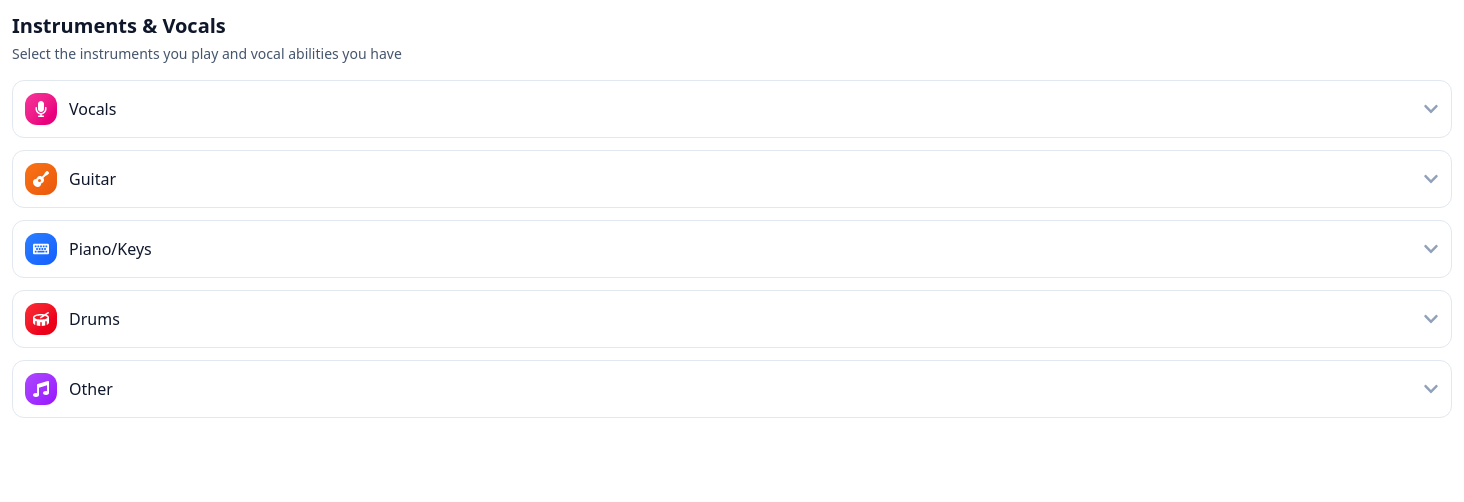
InstrumentSelector › Custom Instrument Input › should show custom input when Other category is expanded
What coordinates should you click on to do the following:
click the button with test id "category-other"
I would click on:
 (41, 389)
Its box is [13,361,1451,417].
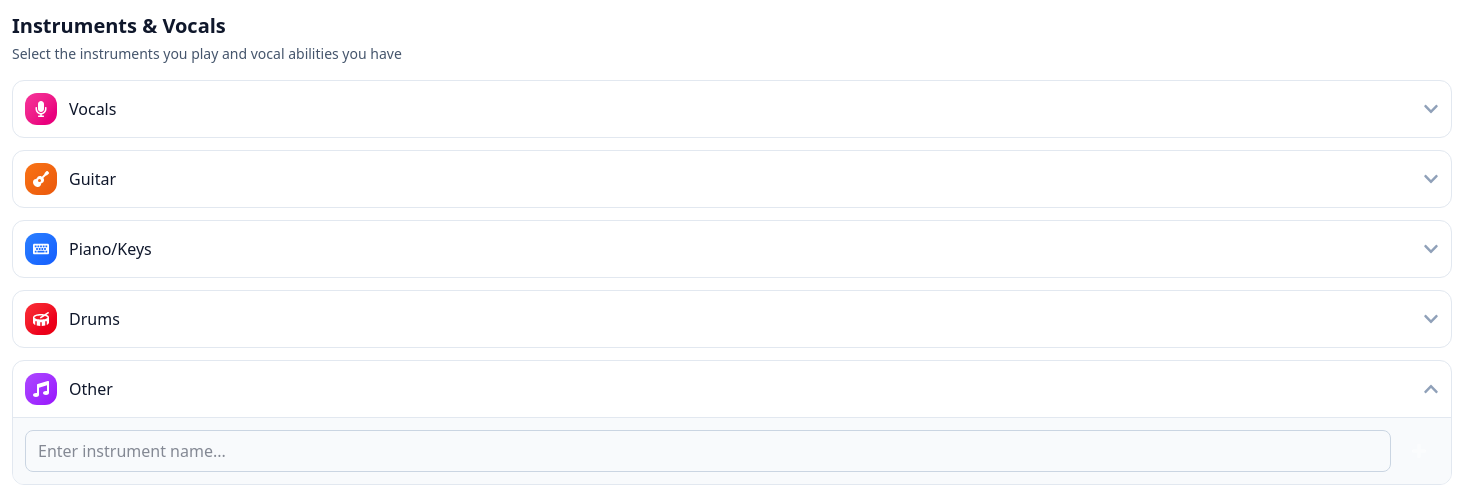
Expected: the field with test id "custom-instrument-input" is shown, [25,430,1391,472]
